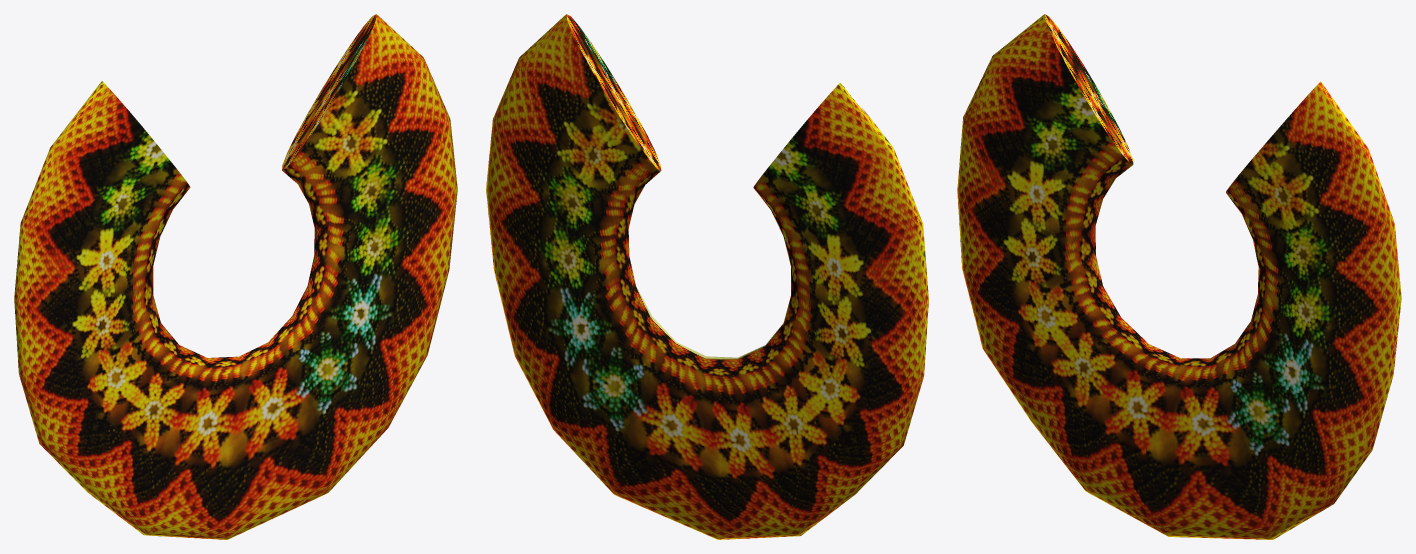
File: collar.fbx
The picture shows the model from 3 angles, left to right: view 1: azimuth 30°, elevation 25°; view 2: azimuth 150°, elevation 25°; view 3: azimuth 330°, elevation 25°; orthographic projection.
Parts seen in each view (by area): view 1: pTorus1; view 2: pTorus1; view 3: pTorus1.
Boxes of the visible parts, bbox=[...] form: pTorus1: bbox=[14, 14, 457, 539]; pTorus1: bbox=[486, 14, 928, 539]; pTorus1: bbox=[957, 14, 1401, 539].
Size of the model in its own units: 6.59 by 6.95 by 0.3462.
